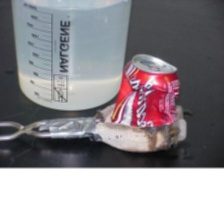can: (109, 51, 183, 131)
